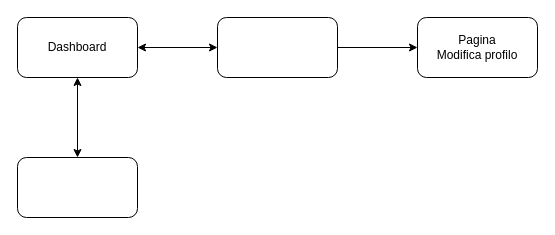
This 555x235 diagram has some shape labels left out. Each missing label, with the centre of its shape:
Home: the point at 77,187
Pagina Visualizzazione profilo: the point at 277,47
